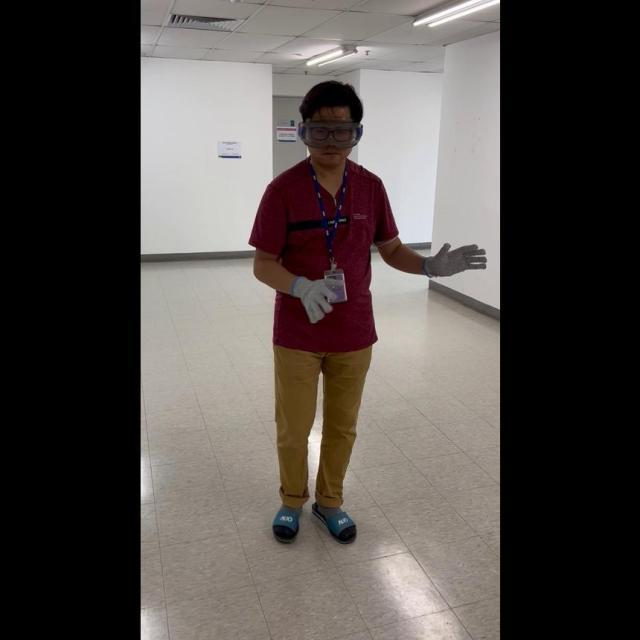gloved_hand: (289, 269, 341, 323), (421, 237, 485, 280)
